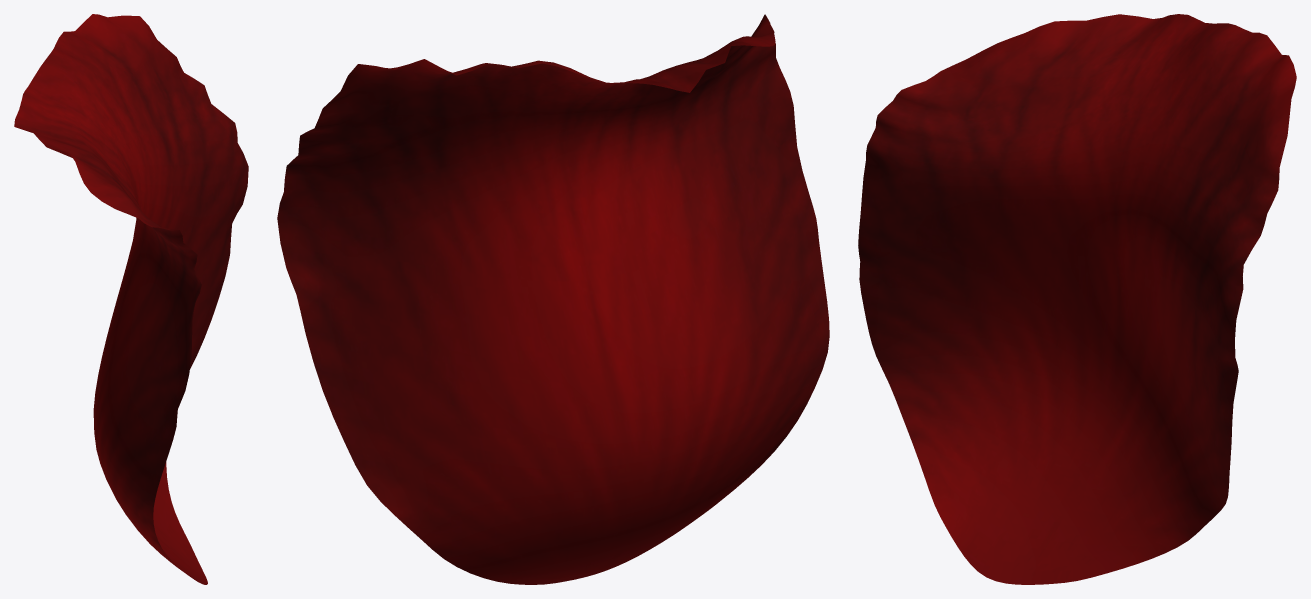
Rendered from petal.fbx.
3 views of the same model, side by side, from view 1: azimuth 30°, elevation 25°; view 2: azimuth 150°, elevation 25°; view 3: azimuth 270°, elevation 25° (orthographic). The views are drawn at different scales.
Parts seen in each view (by area): view 1: rose_6; view 2: rose_6; view 3: rose_6.
Boxes of the visible parts, x1,y1,x2,y2 form: rose_6: [14, 14, 248, 584]; rose_6: [277, 14, 829, 584]; rose_6: [858, 14, 1296, 584].
Bounding box in the file's own units: 1.17 × 1.93 × 1.44.
1 material, 1 textured.
